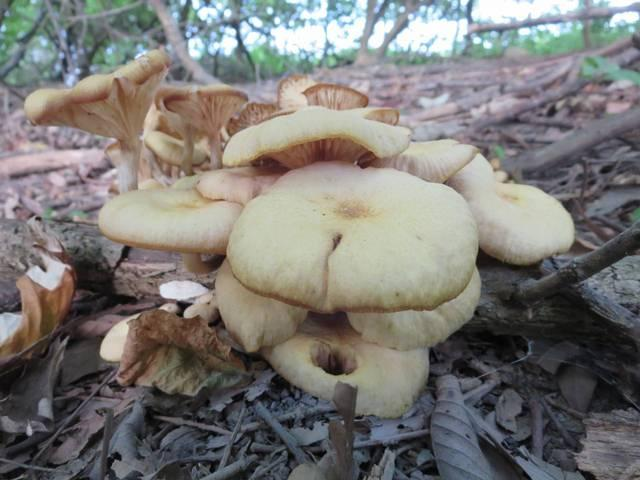Edible Mushroom: (23, 48, 576, 418), (219, 160, 482, 417)
